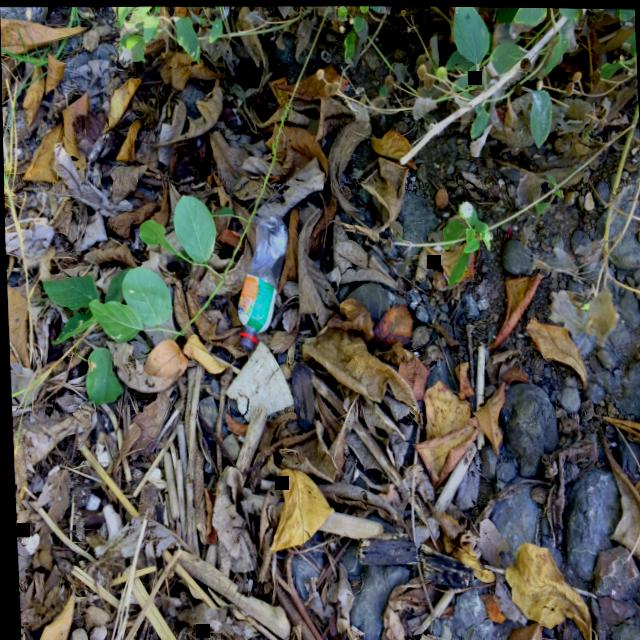Clear plastic bottle: (235, 214, 285, 349)
Styrofoam piece: (223, 339, 290, 420), (17, 532, 36, 554), (82, 492, 97, 508), (44, 464, 56, 475)
